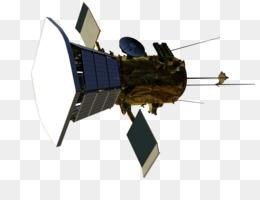antenna: (168, 33, 224, 52), (117, 34, 147, 61), (186, 71, 230, 85), (182, 82, 257, 87), (174, 99, 208, 107)
body: (111, 52, 190, 109)
solar: (123, 108, 163, 180), (81, 50, 123, 92), (73, 88, 122, 122), (73, 1, 104, 49)
